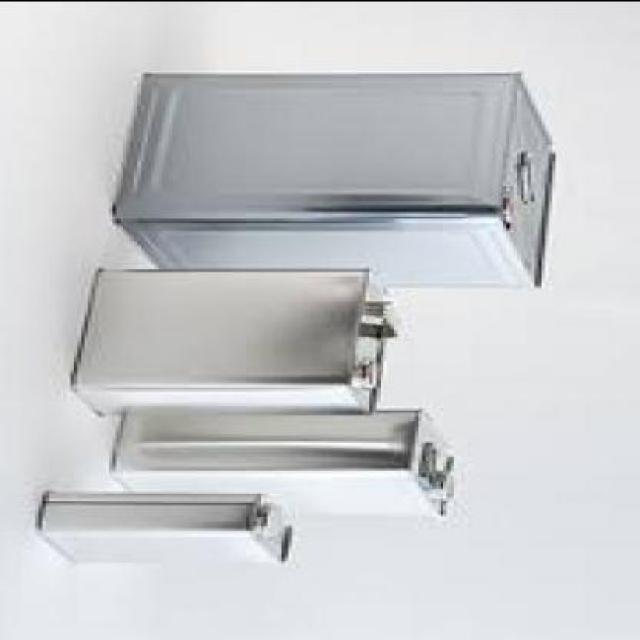metal: (114, 74, 563, 291), (79, 271, 402, 415), (120, 409, 462, 520), (43, 497, 292, 565)
